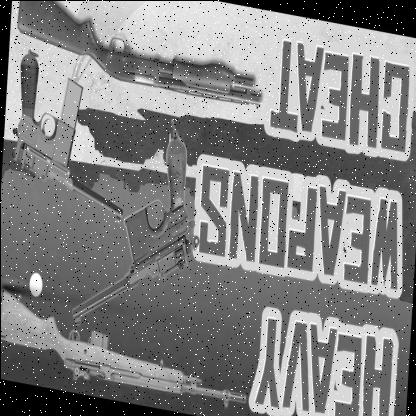rifle: (0, 284, 251, 416), (13, 0, 264, 116)
